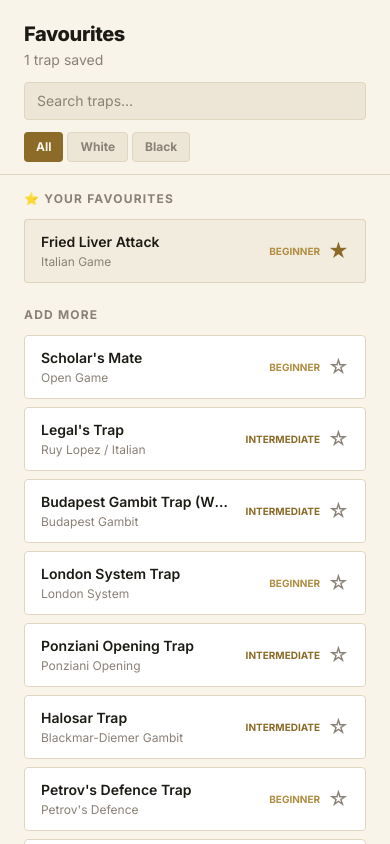
Test: FavouritesPage › search filters both the favourites and the browse-all list by name
Type "scholar" into the field with placeholder "Search traps…". click: (195, 101)
box: [24,82,366,120]
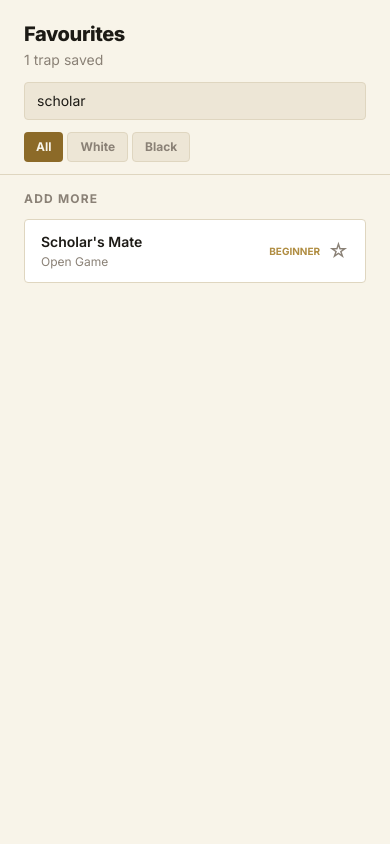
expect the text "Scholar's Mate" is shown: met, box [41,233,142,250]
expect the text "Fried Liver Attack" is gone: met
